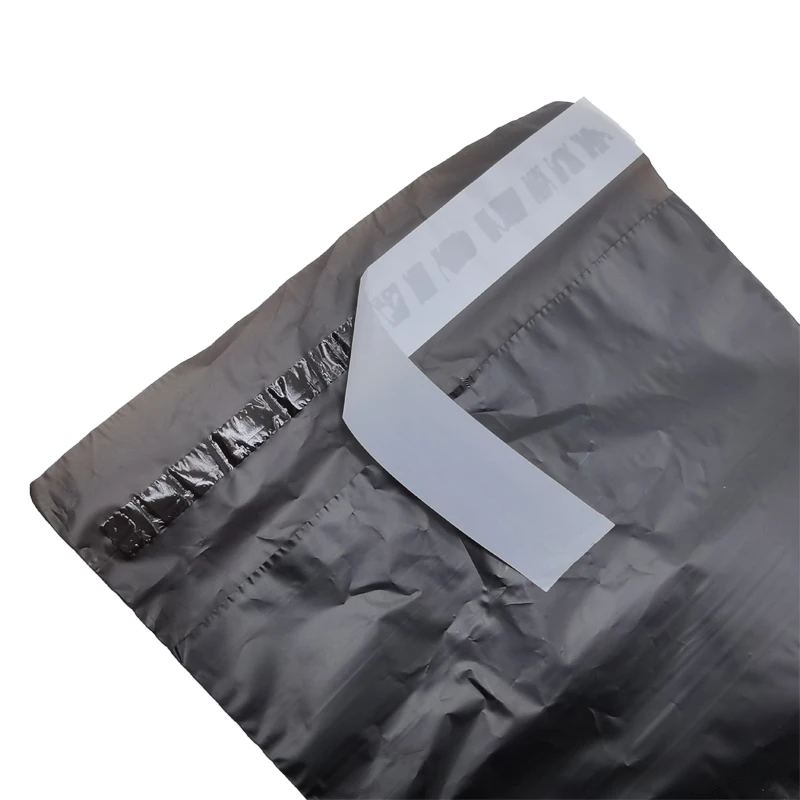塑料袋: (31, 132, 799, 800)
